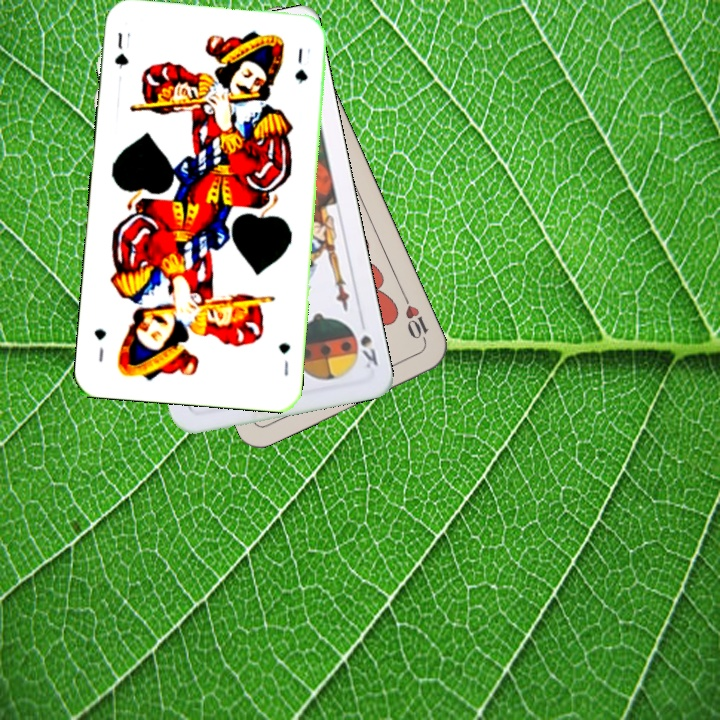GU: (110, 28, 131, 71), (275, 339, 293, 378)
H10: (399, 292, 431, 348)
SK: (356, 330, 381, 371)
